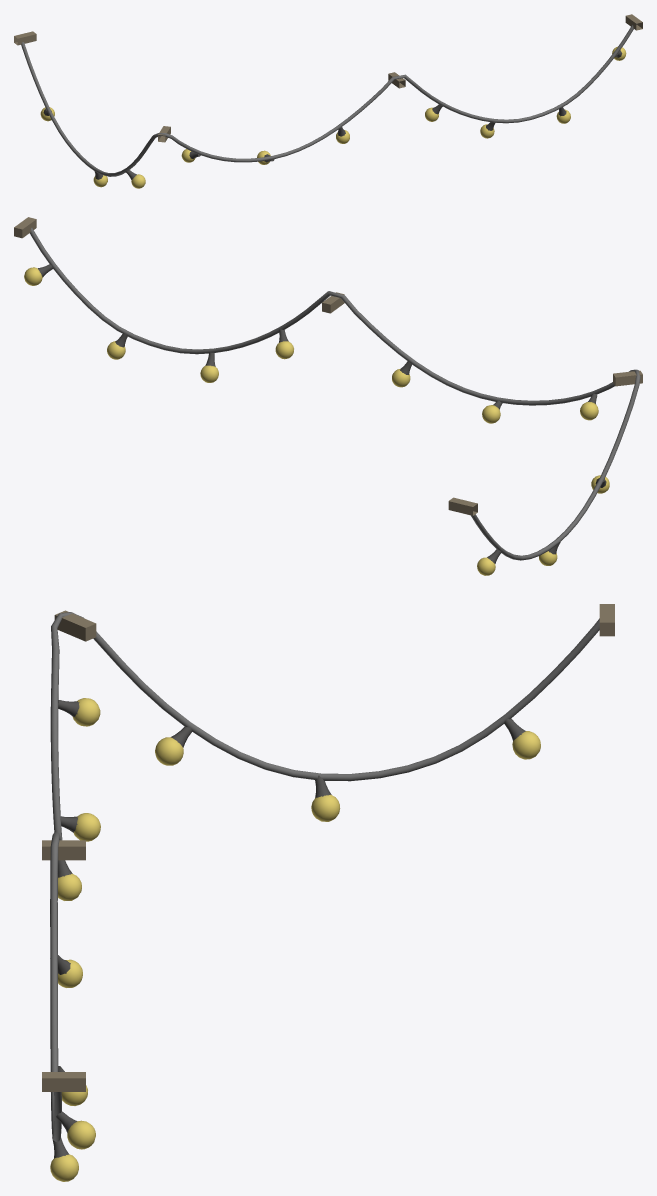
Rendered from festoon.fbx.
3 views of the same model, one above another, from view 1: azimuth 30°, elevation 25°; view 2: azimuth 150°, elevation 25°; view 3: azimuth 270°, elevation 25° (orthographic). The views are drawn at different scales.
Visible parts, largest first — view 1: festoon; view 2: festoon; view 3: festoon.
Boxes of the visible parts, x1,y1,x2,y2 form: festoon: [14, 14, 642, 188]; festoon: [14, 217, 642, 575]; festoon: [42, 604, 614, 1181].
Size of the model in its own units: 799 by 163 by 408.
